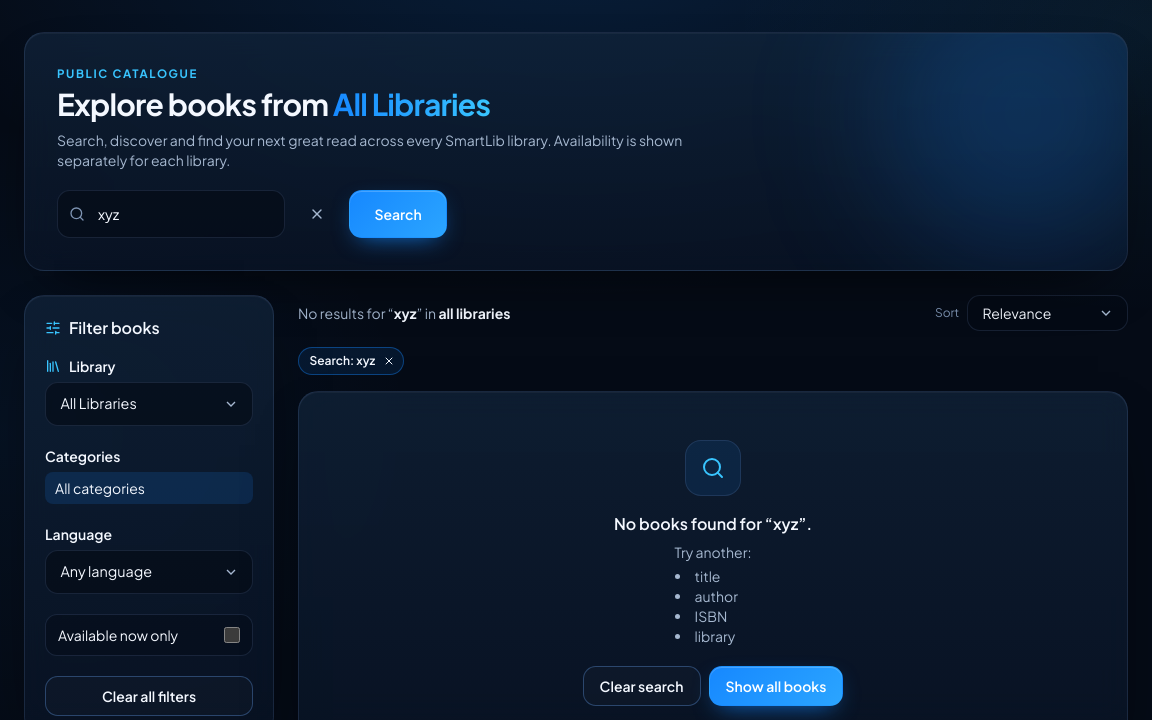
Test case: Public catalogue (spec §79) › zero results keep the page usable with a way back to all books
The width and height of the screenshot is (1152, 720).
Expected: the heading "No books found for “xyz”." is shown, [614, 512, 812, 536]
Step 1. Click the button "Show all books" → [776, 686], box [708, 666, 843, 706]
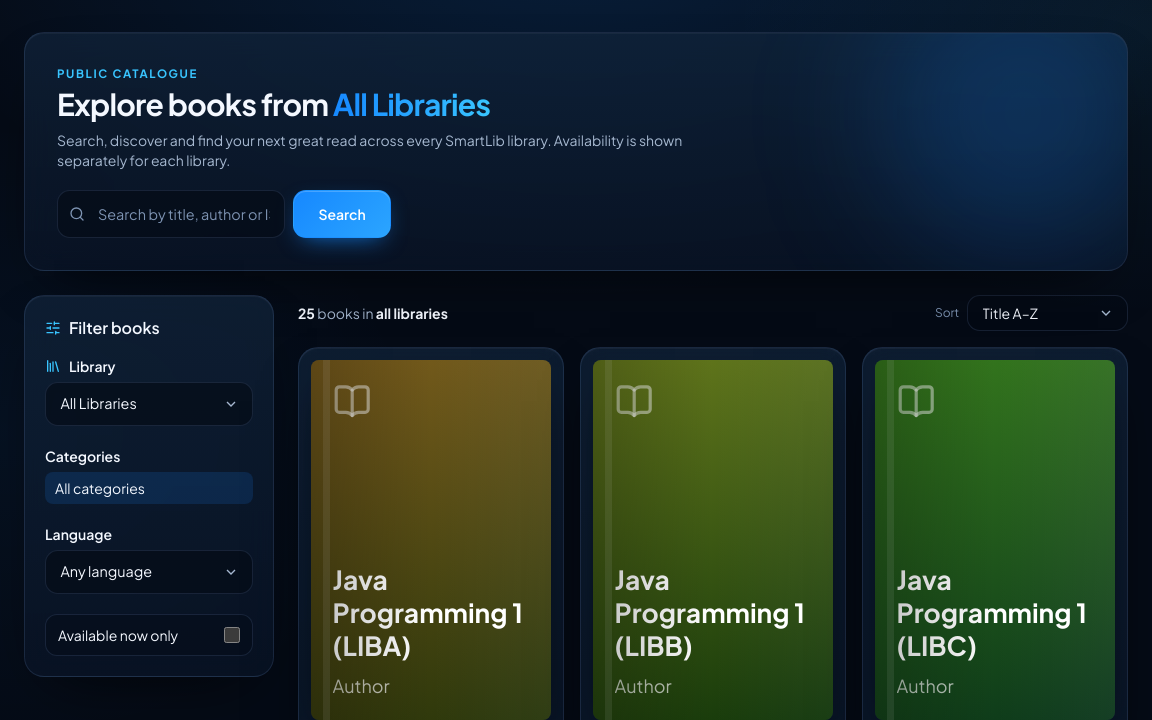
Now the text "25" is shown, box [298, 304, 315, 322]
